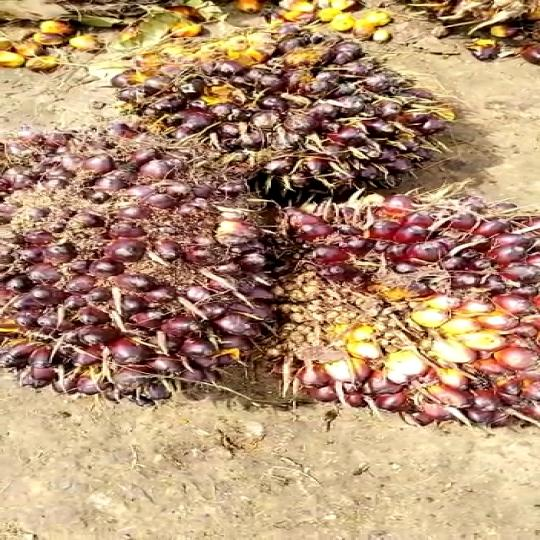kurang masak: (0, 117, 299, 423), (285, 184, 540, 448), (105, 28, 459, 208)
